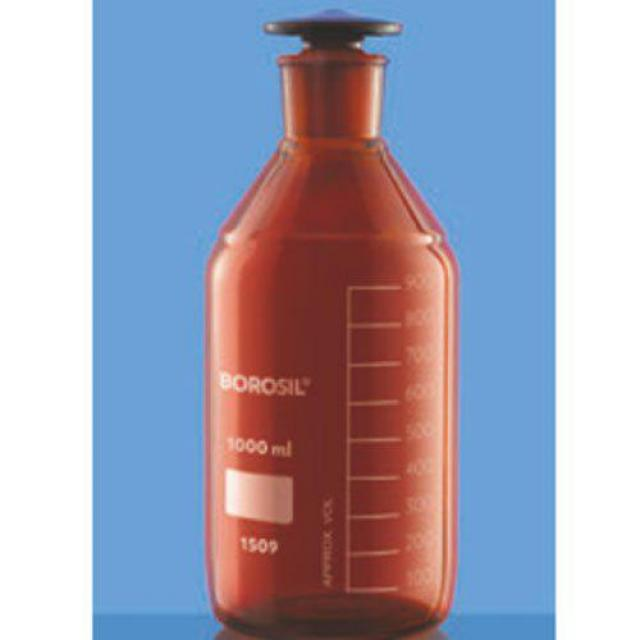non-organic waste: (198, 1, 468, 640)
